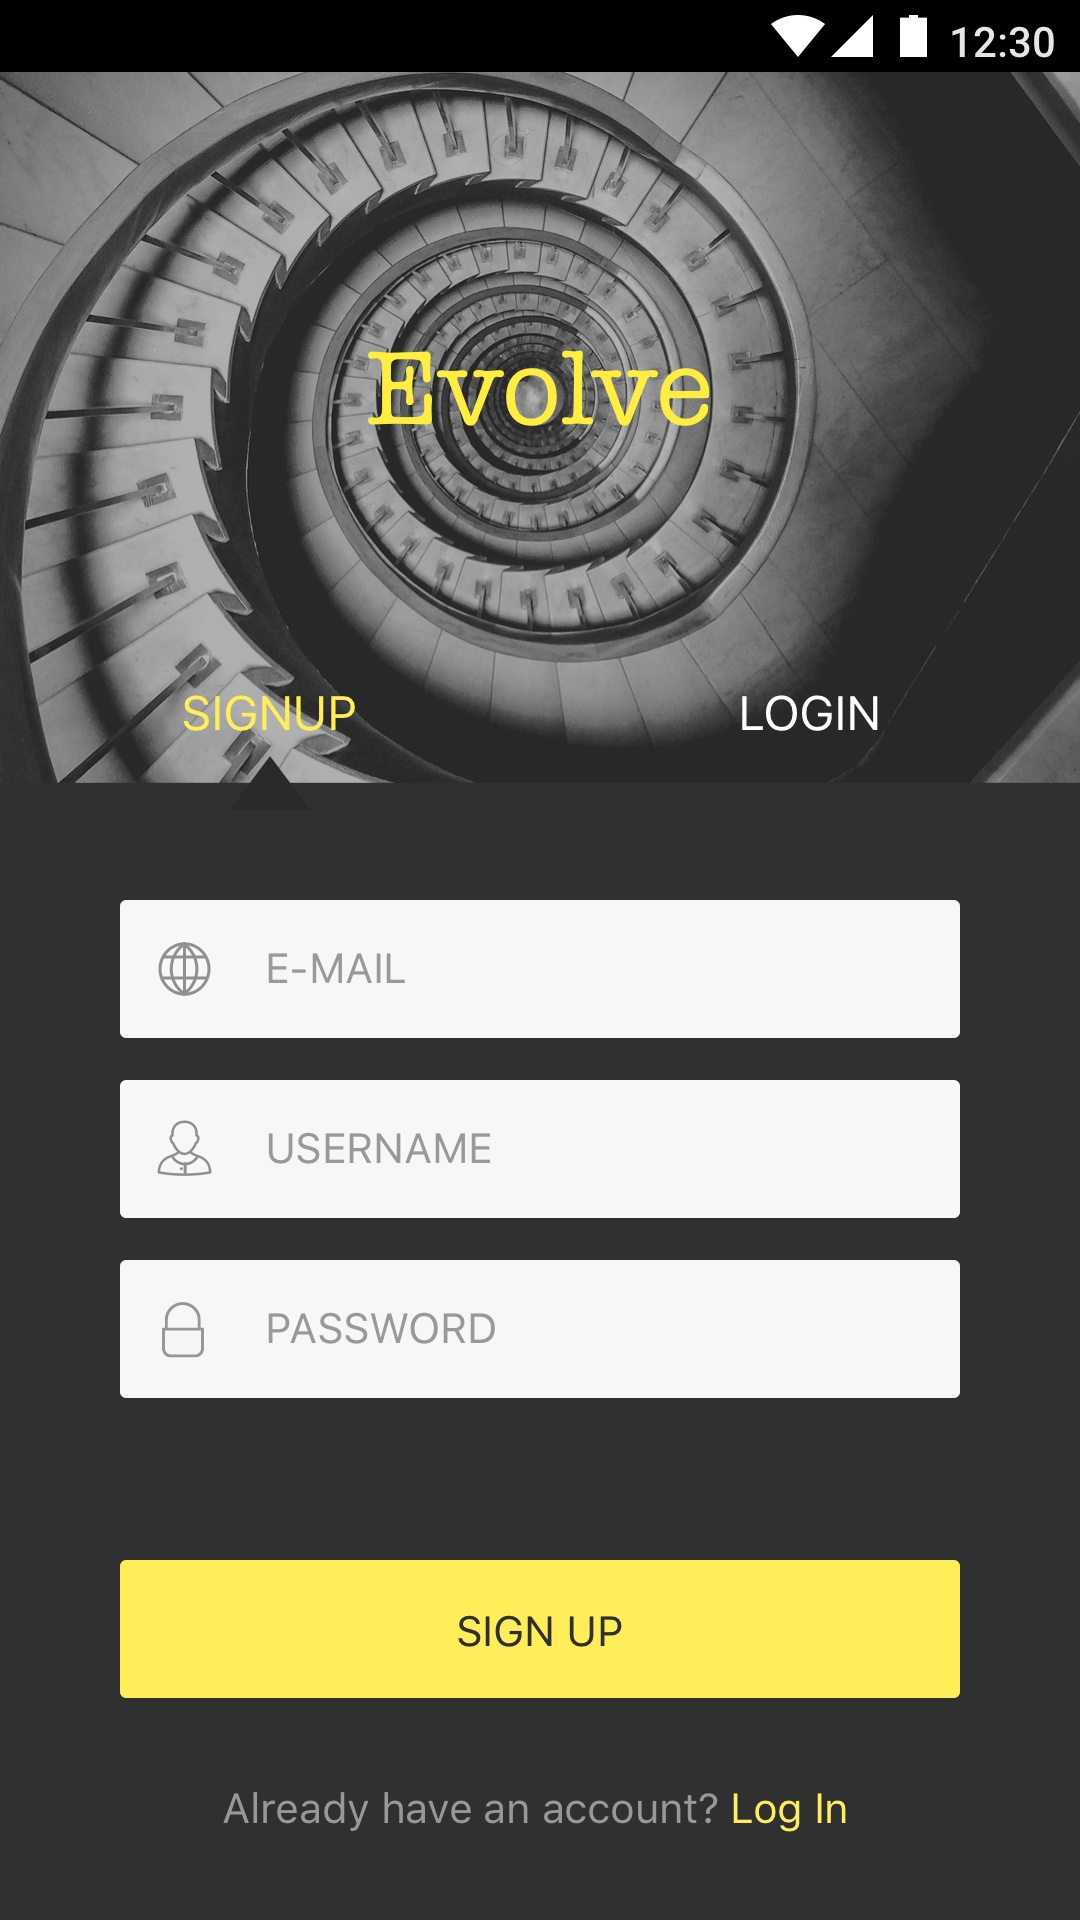EditText: (119, 899, 960, 1039), (120, 1261, 961, 1399), (120, 1080, 960, 1218)
Icon: (158, 1120, 214, 1178), (160, 942, 212, 997), (162, 1302, 206, 1358)
Image: (1, 73, 1080, 783)
Text: (367, 349, 711, 429), (223, 1791, 847, 1833), (268, 1313, 497, 1345), (269, 1133, 492, 1164), (185, 694, 357, 733), (742, 695, 880, 732), (268, 953, 406, 985)
TextButton: (120, 1559, 961, 1698)
UpperTaskBar: (1, 1, 1080, 73)
